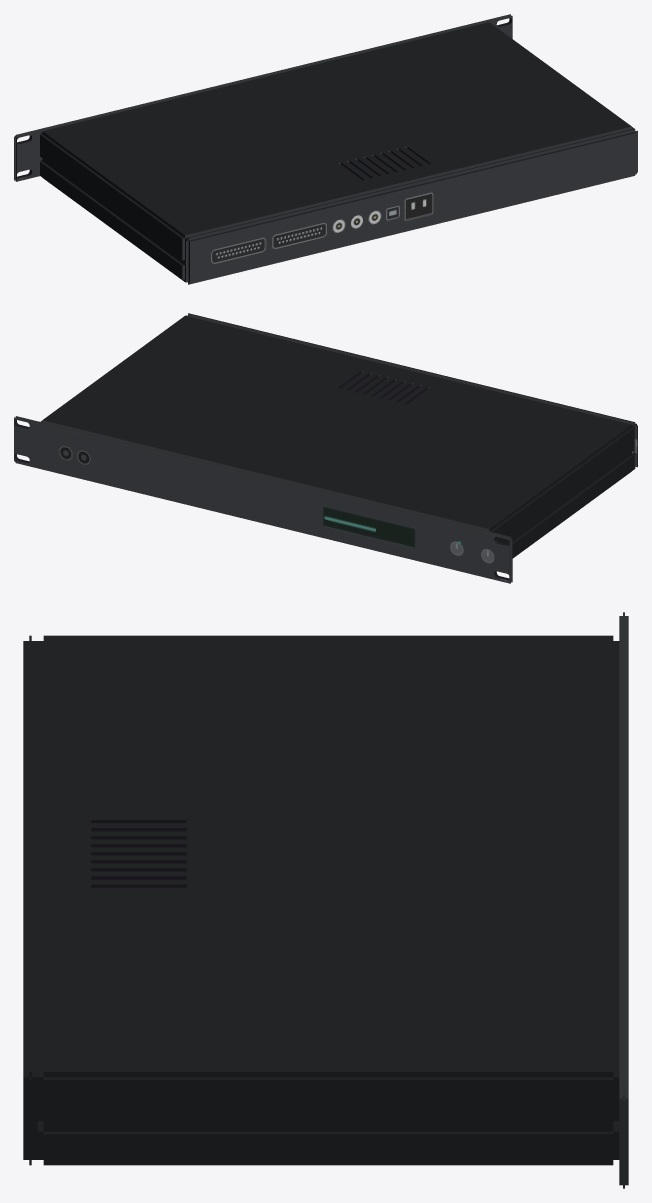
Rendered from lynx-aurora-n.glb.
3 views of the same model, one above another, from view 1: azimuth 30°, elevation 25°; view 2: azimuth 150°, elevation 25°; view 3: azimuth 270°, elevation 25° (orthographic). The views are drawn at different scales.
Visible parts, largest first — view 1: lynx-aurora-n-body; view 2: lynx-aurora-n-body; view 3: lynx-aurora-n-body.
Boxes of the visible parts, x1,y1,x2,y2 form: lynx-aurora-n-body: [14, 14, 637, 284]; lynx-aurora-n-body: [14, 313, 637, 583]; lynx-aurora-n-body: [23, 612, 628, 1188].
Size of the model in its own units: 0.4826 by 0.0432 by 0.254.
1 material, 1 textured.
